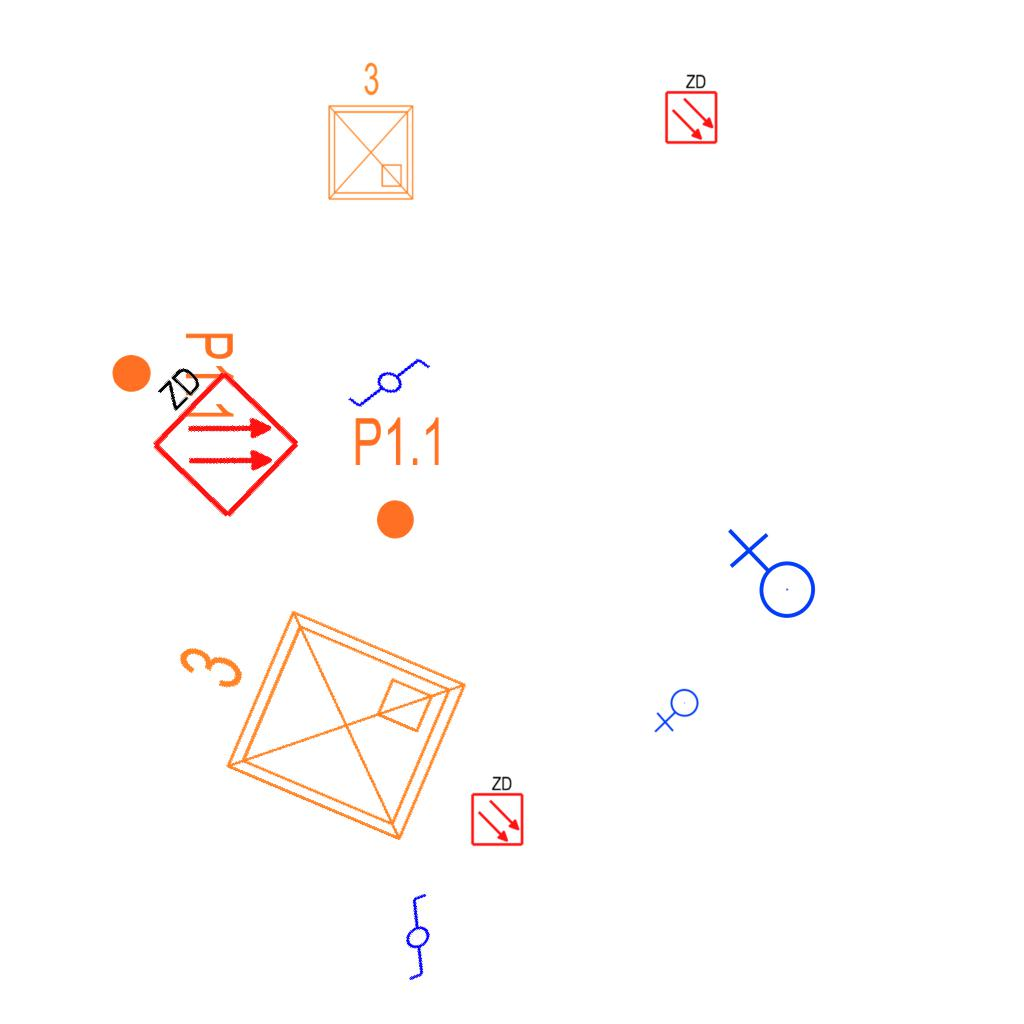Downlight_LED_Einbauleuchten_Flur: (352, 414, 445, 542), (109, 330, 237, 423)
Einbaudownlights_LED_Konferenzraeume: (128, 558, 486, 868), (317, 57, 421, 207)
Elektroanschluss_allgemein_230V_Geraeteanschlussdose_230V: (723, 528, 817, 627), (654, 688, 703, 735)
Wechselschalter: (361, 886, 467, 992), (344, 337, 442, 433)
ZD_Melder_in_Zwischendecke_mit_Revisionsoeffnung_mind_40_x_40_cm: (117, 339, 305, 526), (468, 773, 525, 847), (662, 71, 719, 145)
